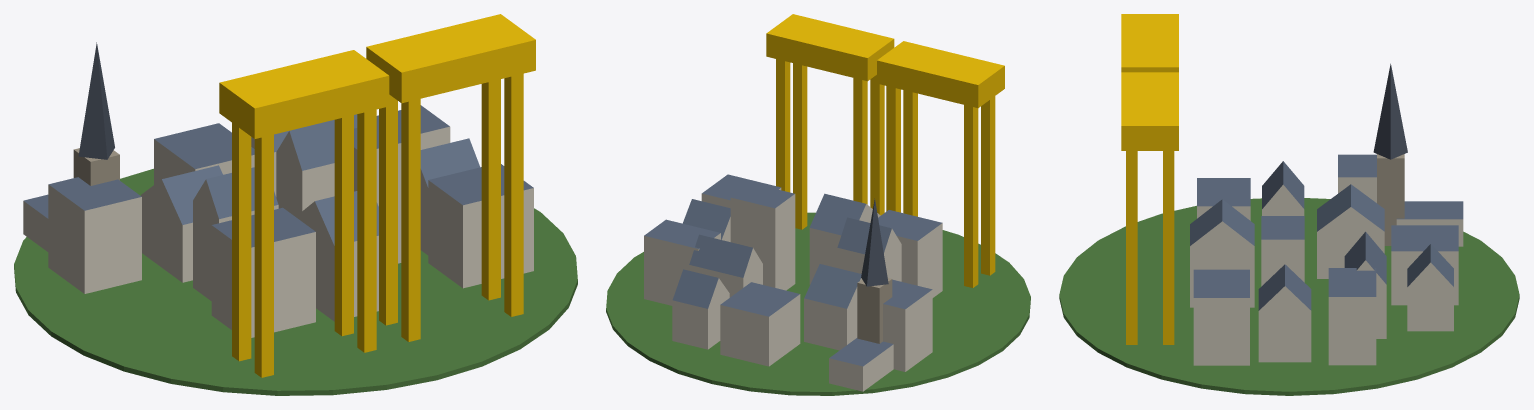
Rendered from belfast.glb.
3 renders of one model, left to right at view 1: azimuth 30°, elevation 25°; view 2: azimuth 150°, elevation 25°; view 3: azimuth 270°, elevation 25°, orthographic. The views are drawn at different scales.
Bounding box in the file's own units: 2 × 1.09 × 2.
